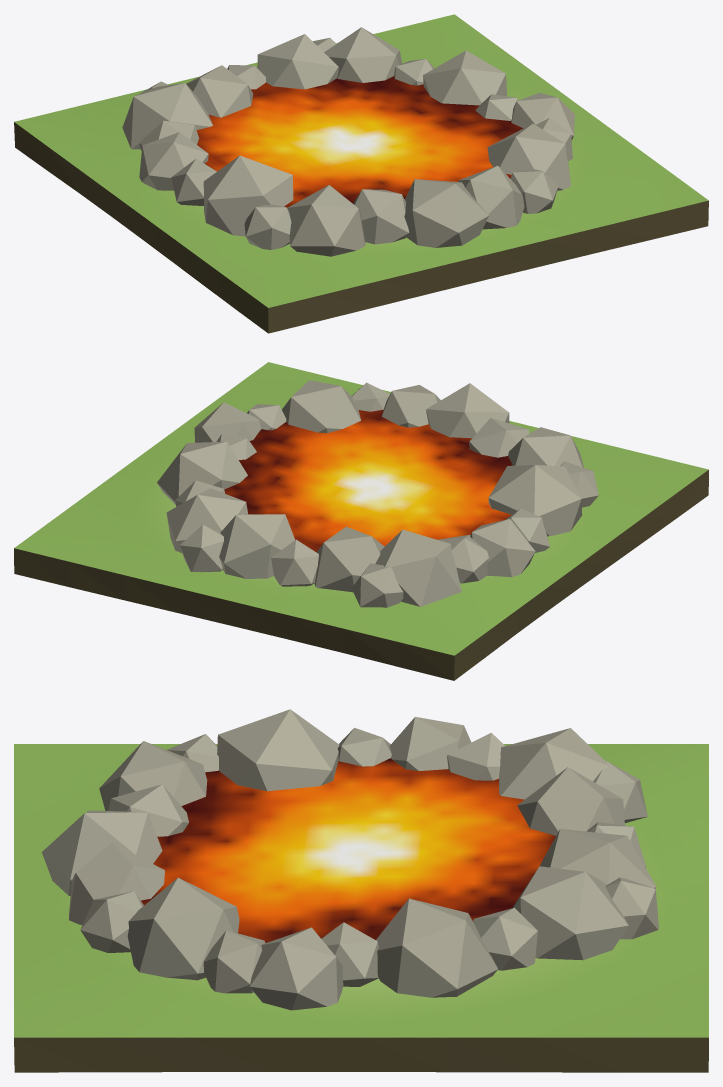
Rendered from lava.FBX.
The picture shows the model from 3 angles, top to bottom: view 1: azimuth 30°, elevation 25°; view 2: azimuth 150°, elevation 25°; view 3: azimuth 270°, elevation 25°; orthographic projection. The views are drawn at different scales.
Visible parts, largest first — view 1: Lava; view 2: Lava; view 3: Lava.
Part boxes in pixels (bbox=[...]): Lava: bbox=[14, 14, 708, 333]; Lava: bbox=[14, 362, 708, 680]; Lava: bbox=[14, 709, 708, 1072].
Bounding box in the file's own units: 100 × 21.15 × 100.
Materials: 1 (1 with a texture image).
